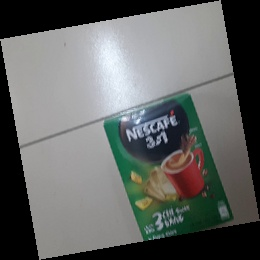Nes Rang: (103, 93, 235, 246)
